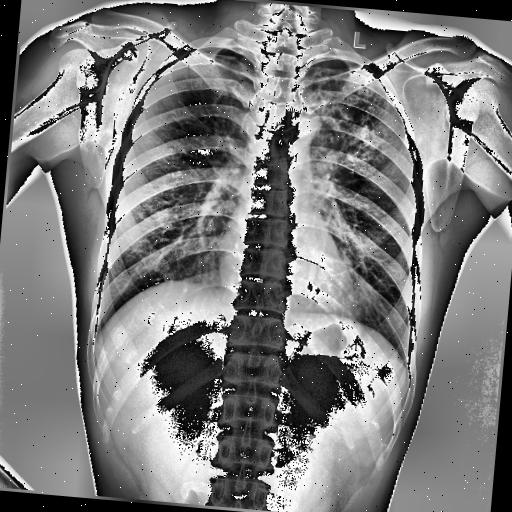13- Pulmonary fibrosis: (292, 61, 410, 191), (310, 64, 405, 177)
6- Infiltration: (292, 61, 410, 191), (300, 62, 403, 183), (310, 64, 405, 177)
